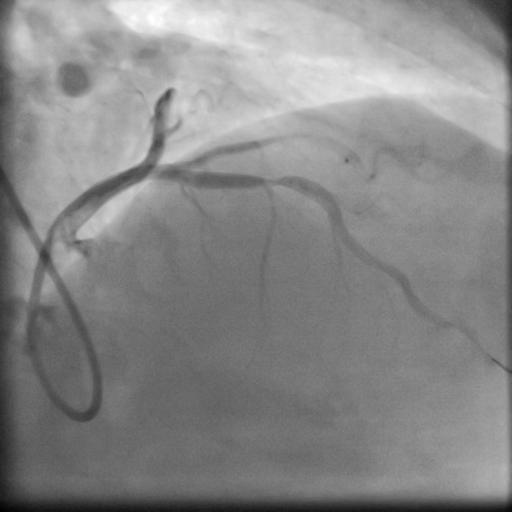Stenosis: (259, 171, 286, 192)
